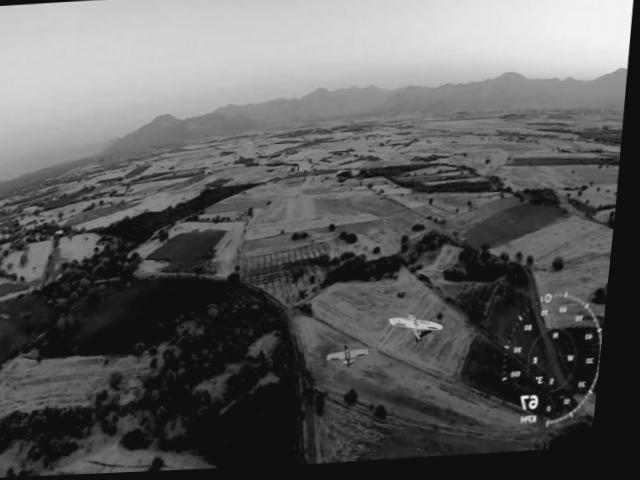hedef: (391, 307, 458, 352), (327, 342, 387, 376)
